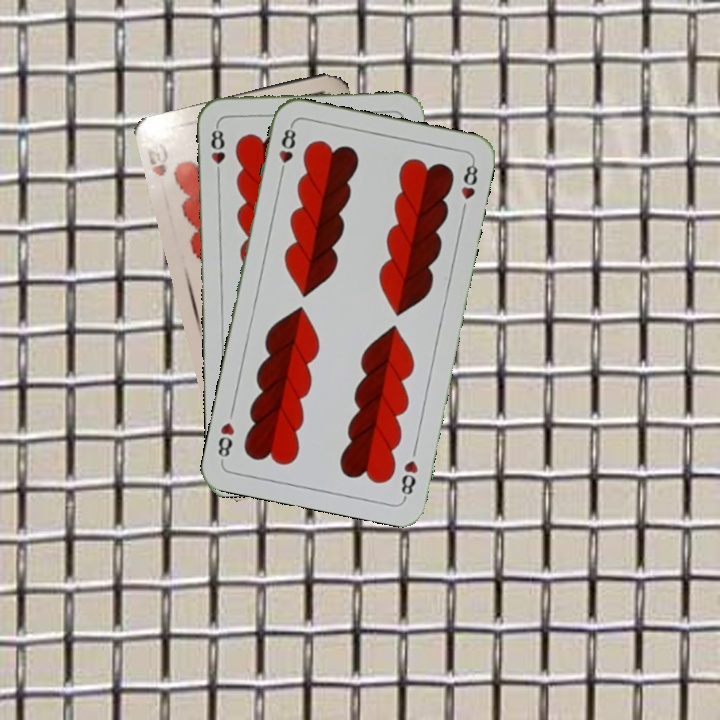H10: (142, 139, 171, 179)
H8: (275, 122, 299, 180), (207, 121, 227, 180), (397, 456, 421, 501)
